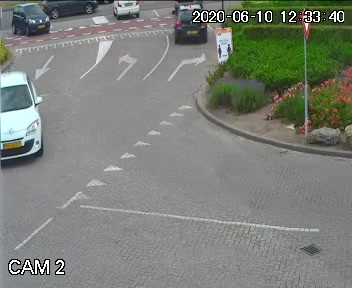car: (0, 59, 54, 175), (172, 7, 213, 50), (7, 9, 59, 39), (37, 0, 102, 23), (109, 0, 144, 21)
